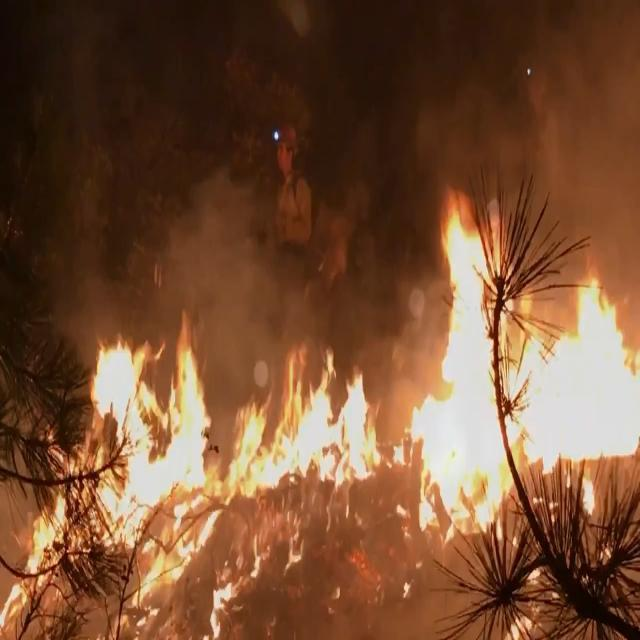Fire: (4, 183, 640, 639)
